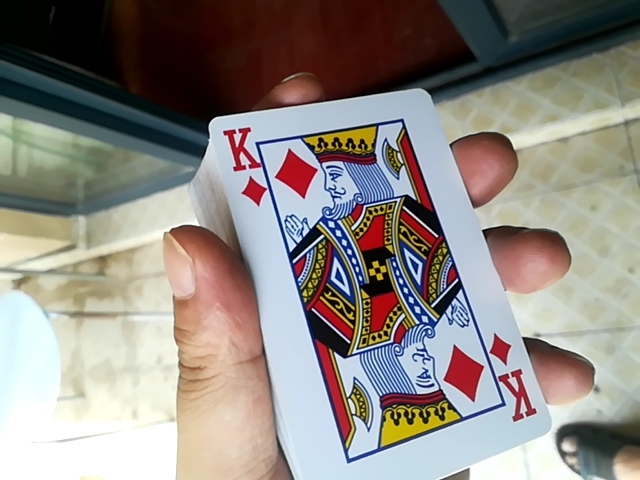fk k: (212, 79, 552, 475)
